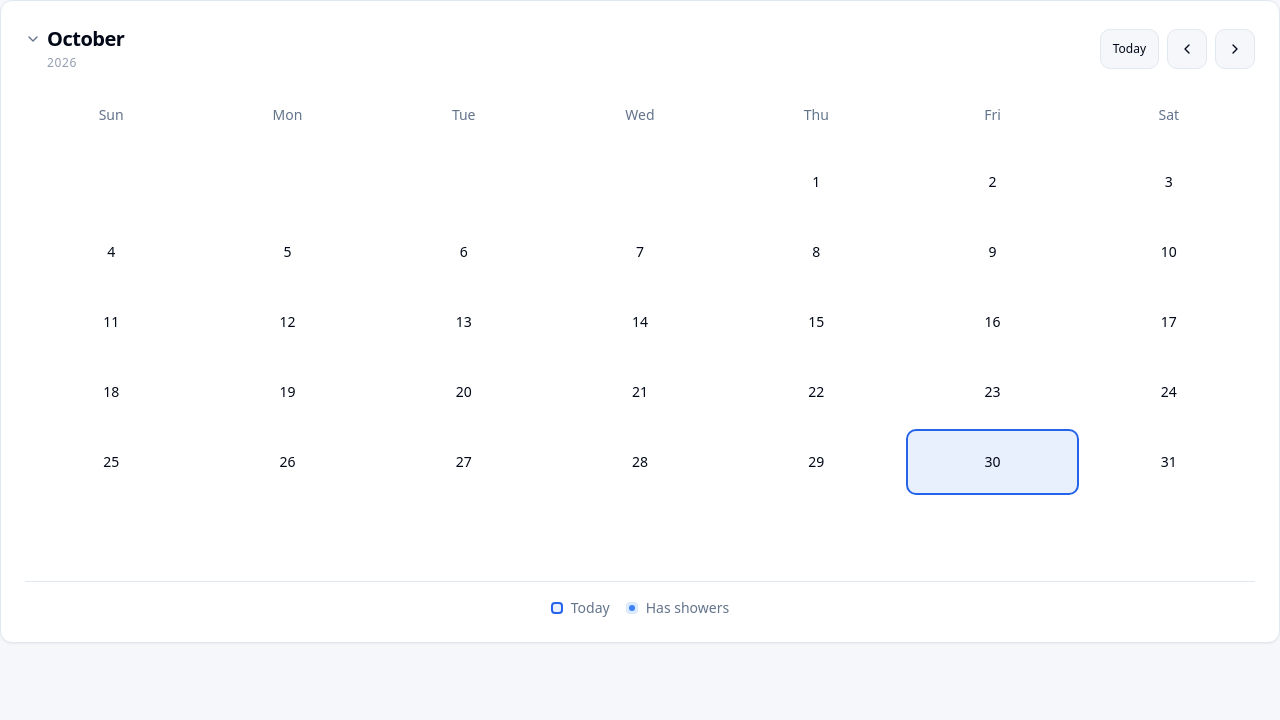
Test: Calendar › opens a go to month dialog from the month header and loads the selected month
This screenshot has width=1280, height=720.
Click the button with test id "calendar-month-trigger". click: coordinates (100, 49)
box: [25,25,175,73]
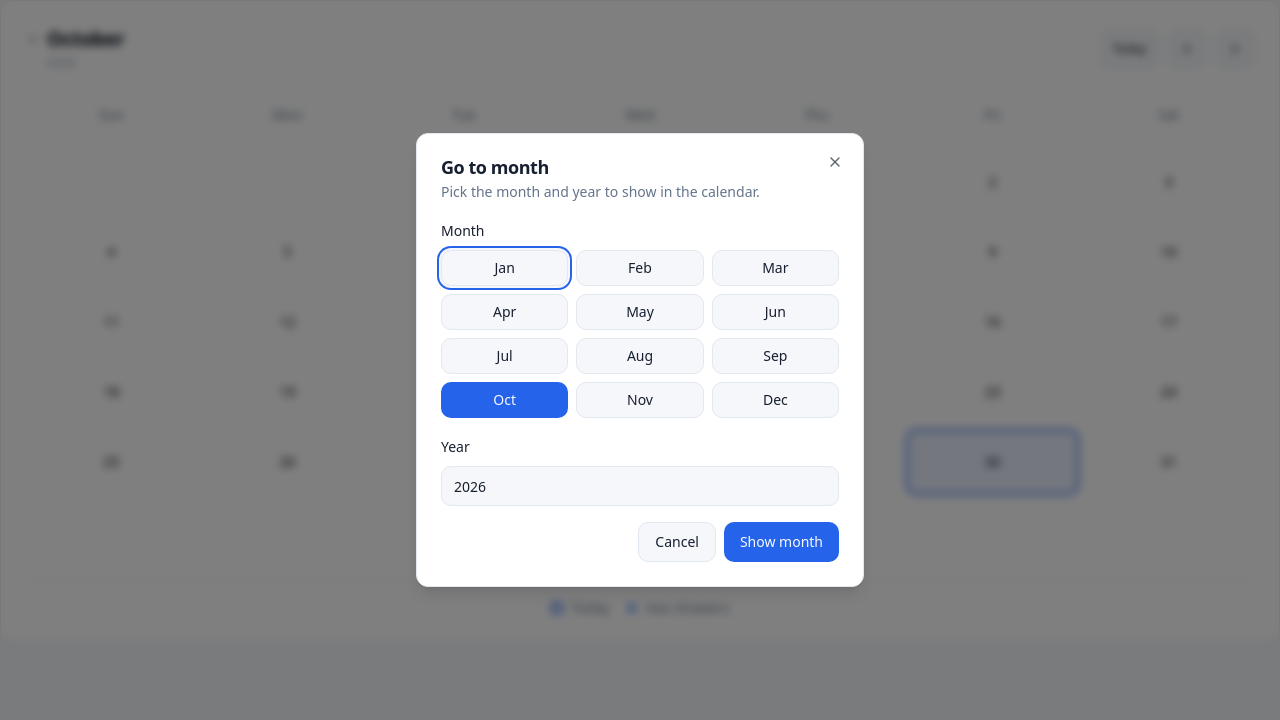
Expected: the dialog with test id "go-to-month-dialog" is shown, [416,133,864,587]
Click the button with test id "month-option-6". click: coordinates (505, 356)
box: [441,338,568,374]
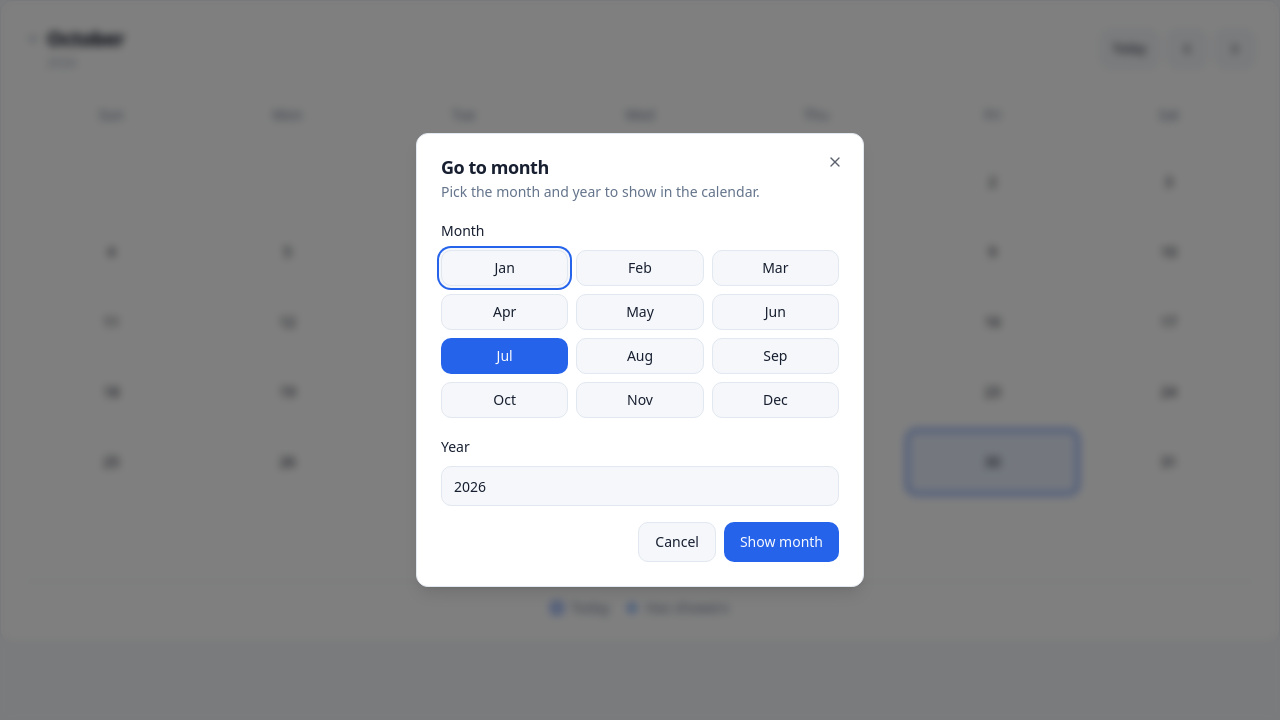
Replace the text in the number field with test id "go-to-year-input" with "2024". click: coordinates (640, 486)
box: [441,466,839,506]
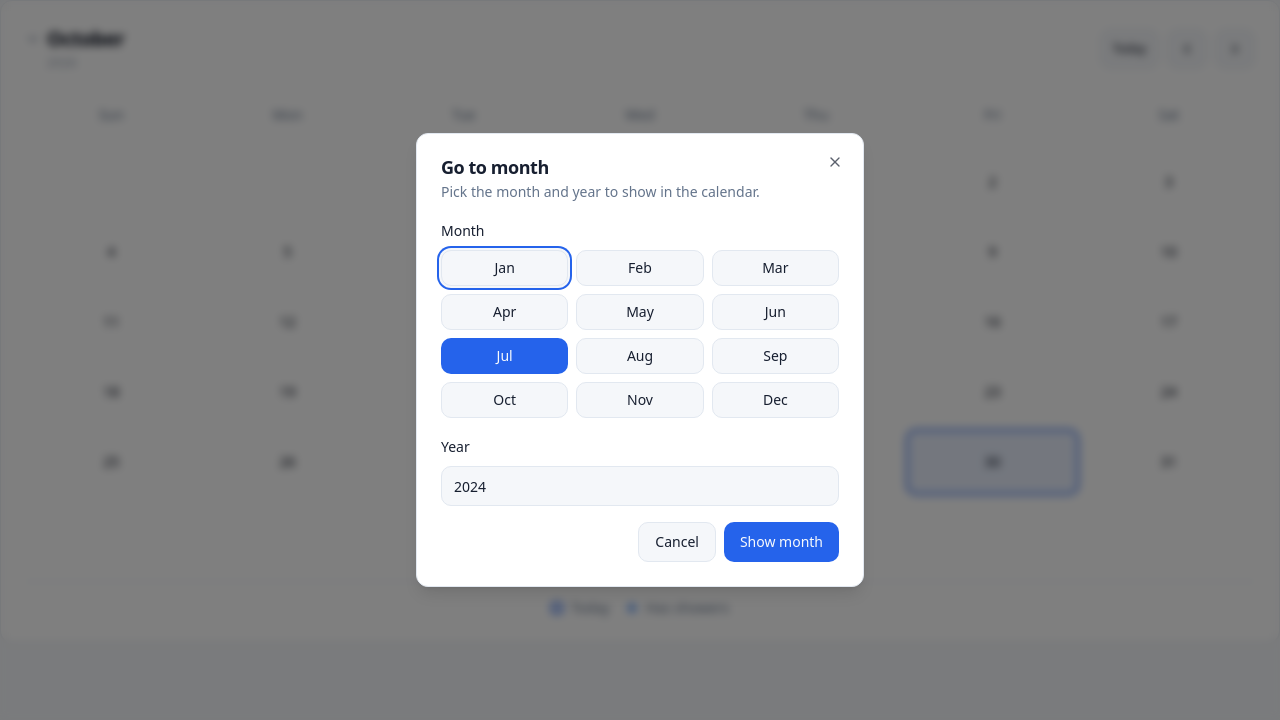
Click the button with test id "go-to-month-submit". click: coordinates (781, 542)
box: [724,522,839,562]
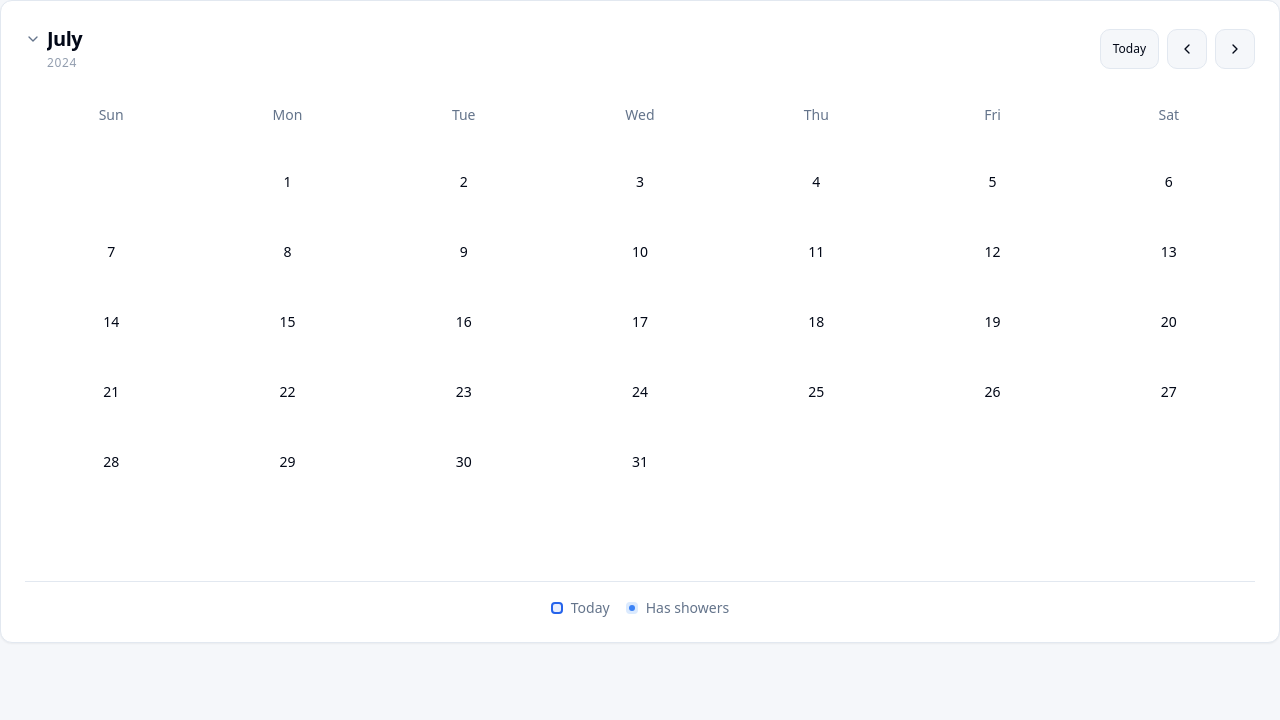
Expected: the heading with test id "calendar-month" reads "July", [47,25,82,52]
